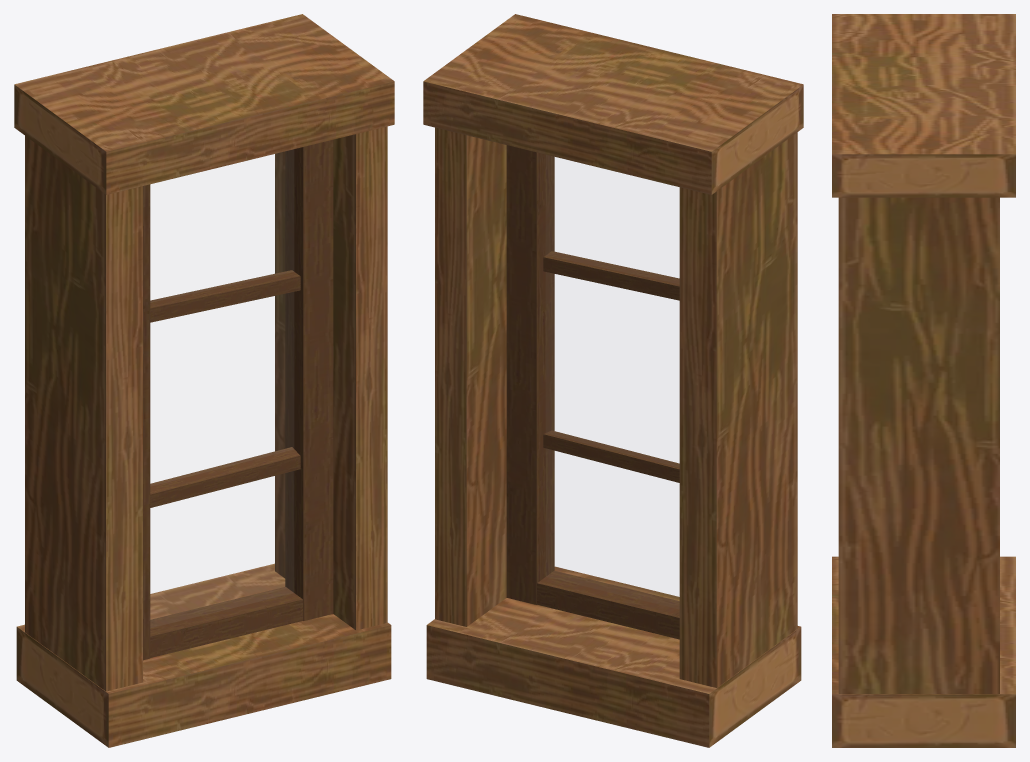
Rendered from Window_Thin_Flat1.gltf.
3 views of the same model, side by side, from view 1: azimuth 30°, elevation 25°; view 2: azimuth 150°, elevation 25°; view 3: azimuth 270°, elevation 25° (orthographic).
Parts seen in each view (by area): view 1: Window_Thin_Flat1; view 2: Window_Thin_Flat1; view 3: Window_Thin_Flat1.
Part boxes in pixels (x1,y1,x2,y2): Window_Thin_Flat1: (14,14,394,747); Window_Thin_Flat1: (423,14,803,747); Window_Thin_Flat1: (832,14,1015,747).
Size of the model in its own units: 0.788 by 1.56 by 0.4357.
2 materials, 1 textured.
